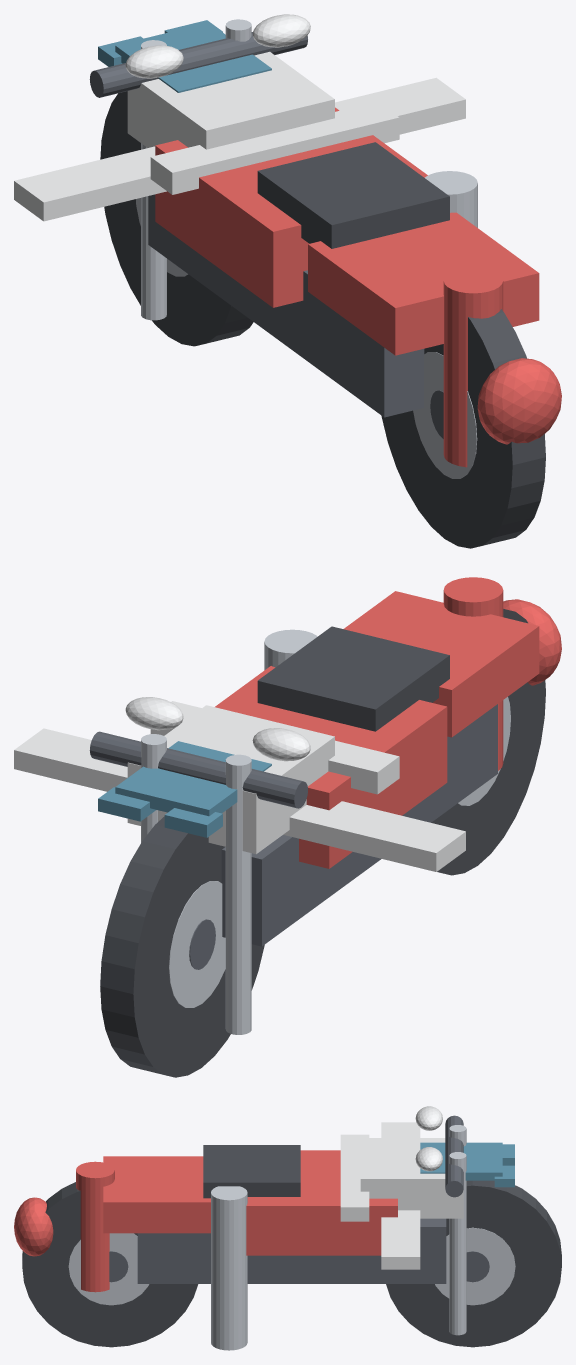
The model's file is rocket_bike.glb.
3 renders of one model, top to bottom at view 1: azimuth 30°, elevation 25°; view 2: azimuth 150°, elevation 25°; view 3: azimuth 270°, elevation 25°, orthographic. The views are drawn at different scales.
Visible parts, largest first — view 1: part_3, part_9, part_1, part_0, part_4, part_2, part_6, part_23, part_19, part_24, part_25, part_20 (+7 smaller); view 2: part_6, part_4, part_3, part_0, part_1, part_2, part_9, part_19, part_12, part_7, part_14, part_5 (+12 smaller); view 3: part_6, part_9, part_0, part_1, part_3, part_16, part_2, part_4, part_24, part_7, part_13, part_10 (+11 smaller).
Part boxes in pixels (box(x1,y1,x2,y2)): part_3: box(308, 212, 539, 355); part_9: box(381, 309, 545, 548); part_1: box(155, 107, 427, 307); part_0: box(148, 194, 424, 417); part_4: box(257, 142, 449, 248); part_2: box(127, 51, 334, 149); part_6: box(100, 91, 253, 346); part_23: box(150, 101, 399, 194); part_19: box(14, 146, 166, 221); part_24: box(443, 268, 503, 467); part_25: box(477, 358, 561, 444); part_20: box(335, 77, 465, 134); part_6: box(100, 816, 264, 1077); part_4: box(257, 626, 449, 731); part_3: box(343, 591, 539, 737); part_0: box(221, 704, 497, 946); part_1: box(215, 666, 447, 868); part_2: box(127, 705, 334, 854); part_9: box(431, 609, 545, 875); part_19: box(283, 801, 465, 871); part_12: box(225, 754, 251, 1034); part_7: box(169, 881, 225, 1007); part_14: box(89, 731, 307, 808); part_5: box(115, 741, 271, 816); part_6: box(386, 1180, 561, 1347); part_9: box(22, 1182, 198, 1347); part_0: box(137, 1218, 446, 1283); part_1: box(246, 1150, 397, 1255); part_3: box(103, 1156, 210, 1233); part_16: box(211, 1186, 247, 1350); part_2: box(360, 1138, 463, 1218); part_4: box(203, 1145, 300, 1198); part_24: box(76, 1161, 114, 1292); part_7: box(435, 1227, 515, 1305); part_13: box(449, 1152, 466, 1335); part_10: box(68, 1233, 149, 1305).
Size of the model in its own units: 2.79 by 2.04 by 4.79.
